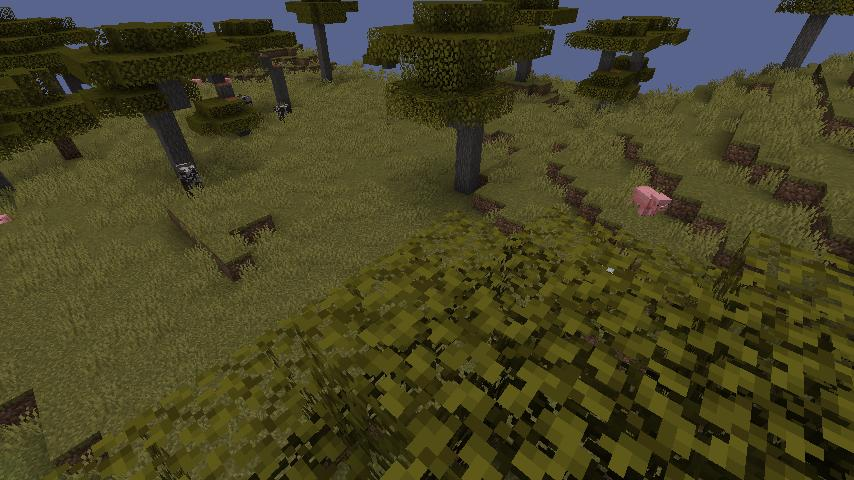cow: (174, 160, 204, 196), (272, 102, 294, 121), (237, 91, 254, 105)
pig: (630, 184, 672, 218)
